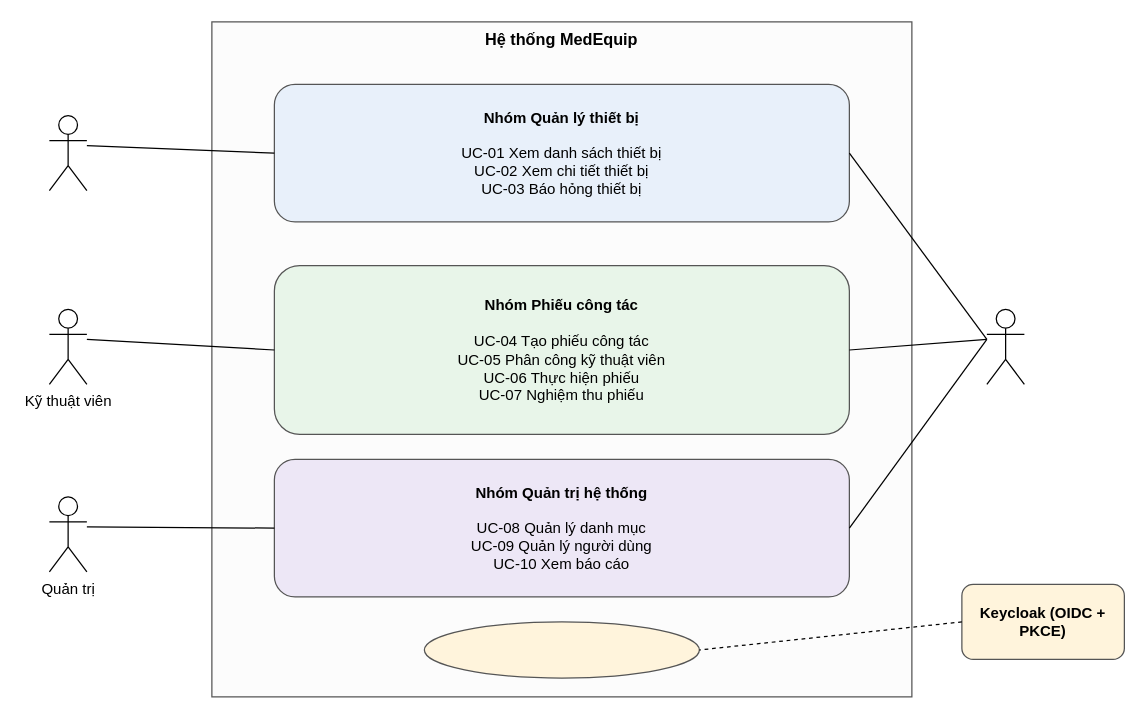
This 1146x719 diagram has some shape labels left out. The shapes that lost their labels are listed below. From the top down, each one's box as (x1, y1, x2, y2) in pixels, then its label:
(48, 114, 87, 191): Đầu mối khoa
(986, 308, 1024, 384): Điều phối
(423, 621, 699, 678): Đăng nhập (OIDC, PKCE)
